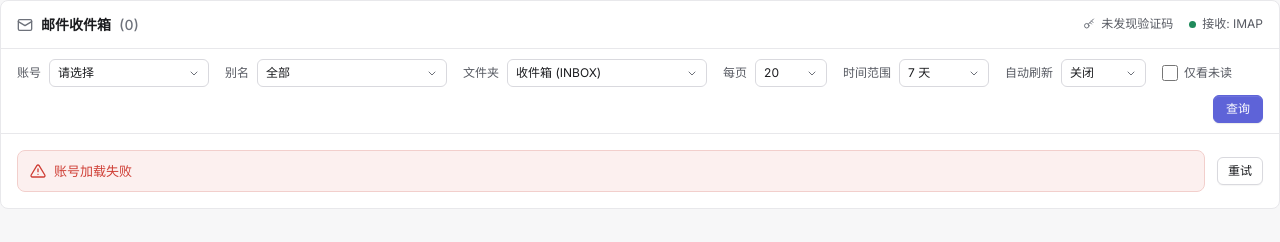
Test: 账号列表首次失败后点击重试可恢复收件箱
The image size is (1280, 242).
Check: the text "账号加载失败" is shown, box [54, 161, 132, 181]
What coordinates should you click on to do the following:
click the button "重试"
I would click on:
 (1240, 171)
Its box is [1217, 157, 1263, 185].
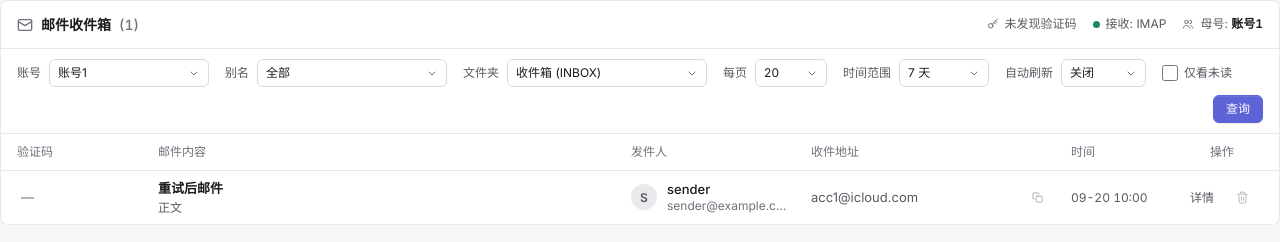
Check: the button "重试后邮件" is shown, box [158, 178, 223, 197]
